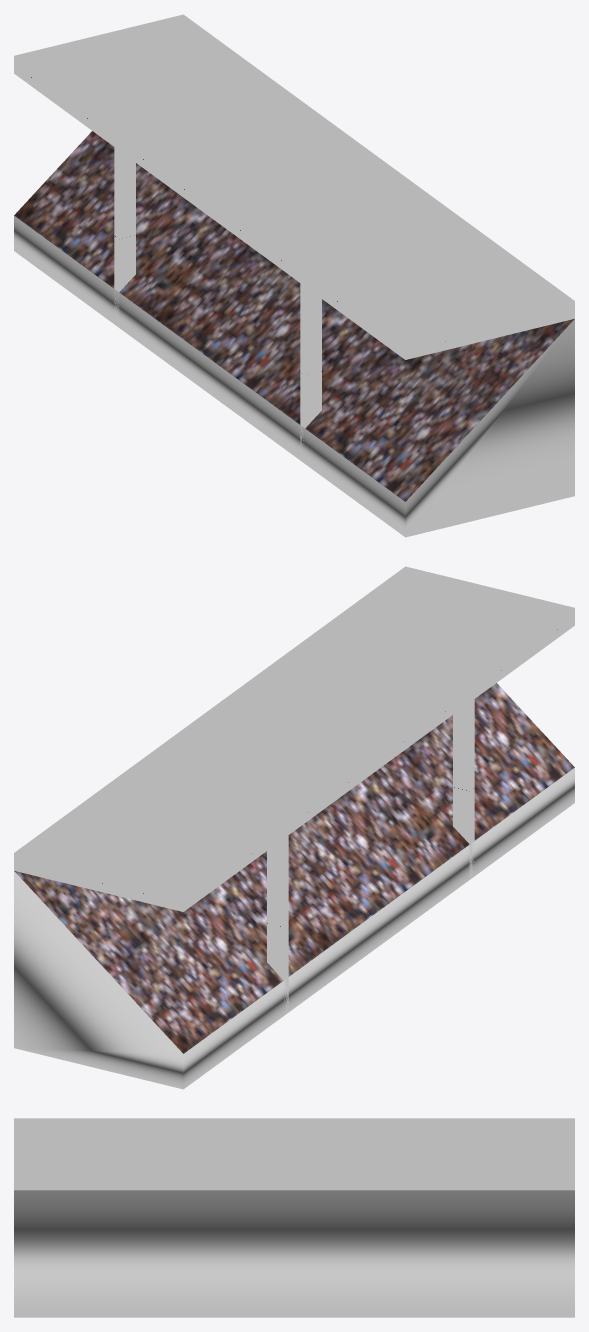
File: grandstand.obj
3 views of the same model, one above another, from view 1: azimuth 30°, elevation 25°; view 2: azimuth 150°, elevation 25°; view 3: azimuth 270°, elevation 25° (orthographic). The views are drawn at different scales.
Parts seen in each view (by area): view 1: Grandstand_Bottom, Grandstand_Top, Grandstand_Post_L, Grandstand_Post_R; view 2: Grandstand_Bottom, Grandstand_Top, Grandstand_Post_R, Grandstand_Post_L; view 3: Grandstand_Bottom, Grandstand_Top.
Boxes of the visible parts, x1,y1,x2,y2 form: Grandstand_Bottom: (14, 131, 574, 537); Grandstand_Top: (14, 14, 574, 359); Grandstand_Post_L: (114, 147, 135, 327); Grandstand_Post_R: (300, 283, 321, 459); Grandstand_Bottom: (14, 683, 574, 1089); Grandstand_Top: (14, 566, 574, 911); Grandstand_Post_R: (453, 699, 474, 879); Grandstand_Post_L: (267, 835, 288, 1015); Grandstand_Bottom: (14, 1190, 574, 1317); Grandstand_Top: (14, 1118, 574, 1190).
Size of the model in its own units: 1 by 1.1 by 4.
2 materials, 1 textured.
